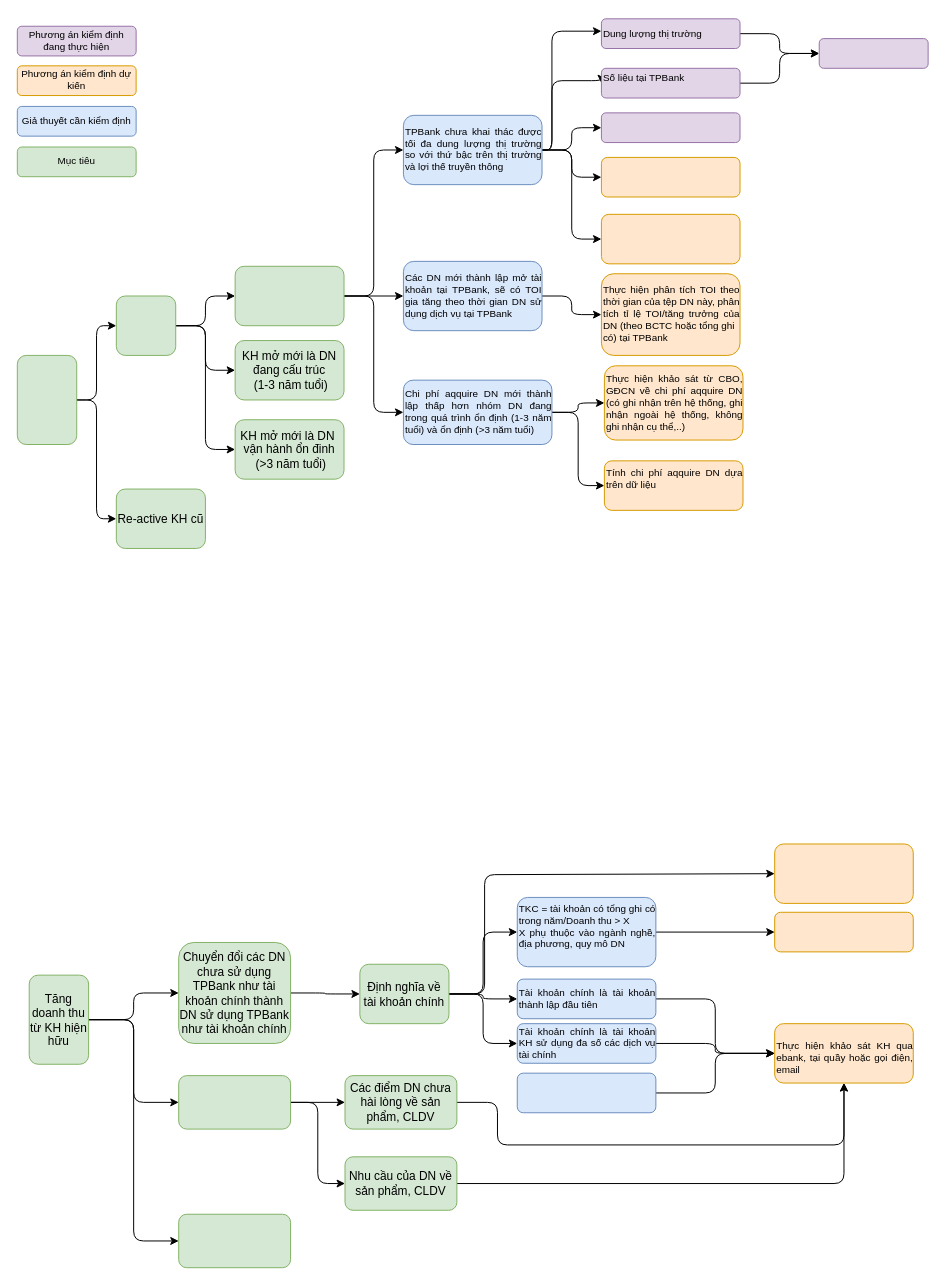
Some shapes in this 945 by 1285 pixel diagram are drawn without their labels. The shapes that lost their labels are listed below. From the top down, each one's centre as x and y in pixels, then its label:
the point at 873,53: Thị phần của TPBank
the point at 670,127: Thứ bậc trên thị trường
the point at 670,176: Số liệu của các ngân hàng trong cùng thứ hạng (OCB, VIB,..)
the point at 670,238: Số liệu của các ngân hàng thứ hạng cao hơn (VCB, TCB, VPB,..)
the point at 289,295: KH mở mới là DN mới thành lập (<1 năm tuổi)
the point at 145,325: Tăng SL KH mở mới
the point at 46,399: Tăng SL KH
the point at 843,873: Khảo sát về định nghĩa tài khoản chính theo nhận định của DN, CBO
the point at 843,931: Thực hiện định nghĩa tài khoản chính dựa trên số liệu
the point at 234,1102: Tăng sự gắn kết của KH và TPBank
the point at 586,1092: DN sử dụng tài khoản tại > = 2 ngân hàng
the point at 234,1240: Tối ưu CASA trên KH hiện hữu
